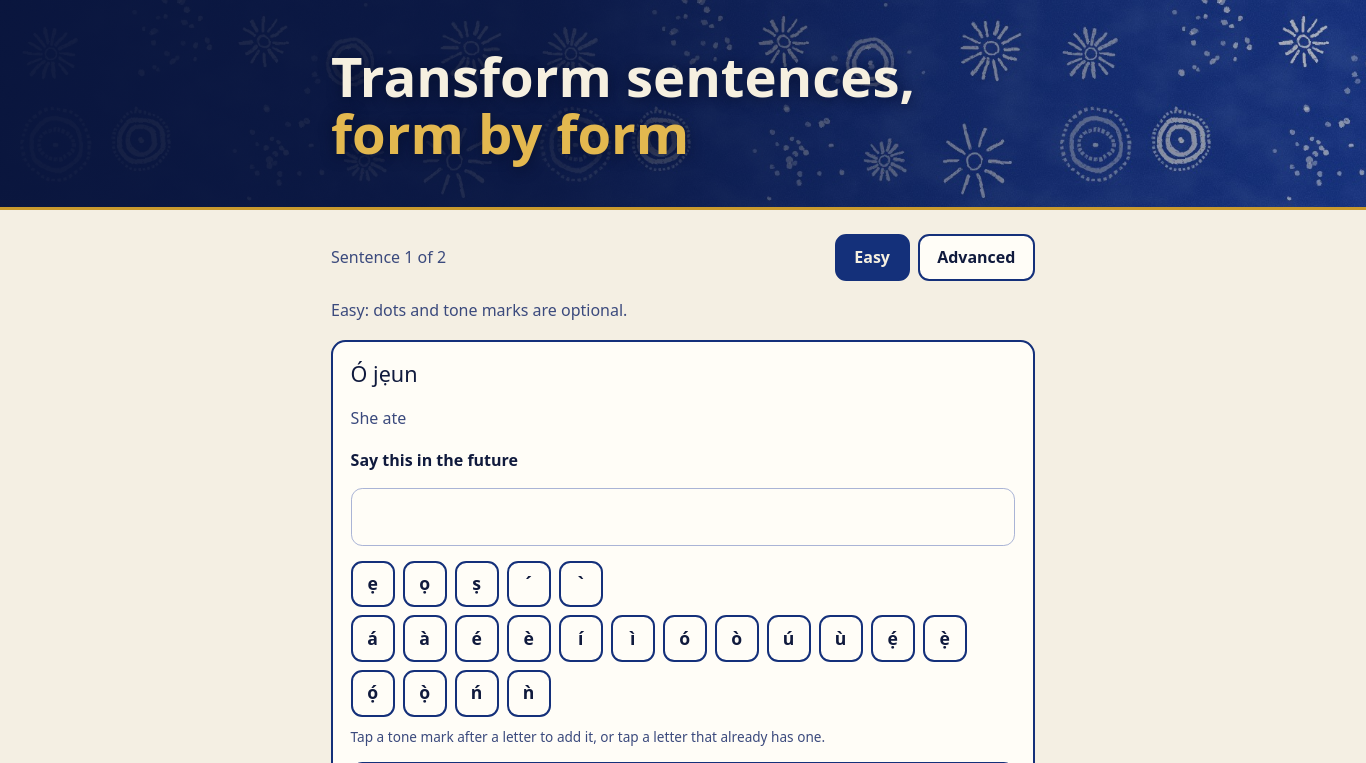
Scenario: Transform page › lists other accepted answers
Type "o jẹun" into the field with test id "transform-input".
click(683, 517); type("o jẹun")  # box [351,488,1015,546]
(page scrolled)
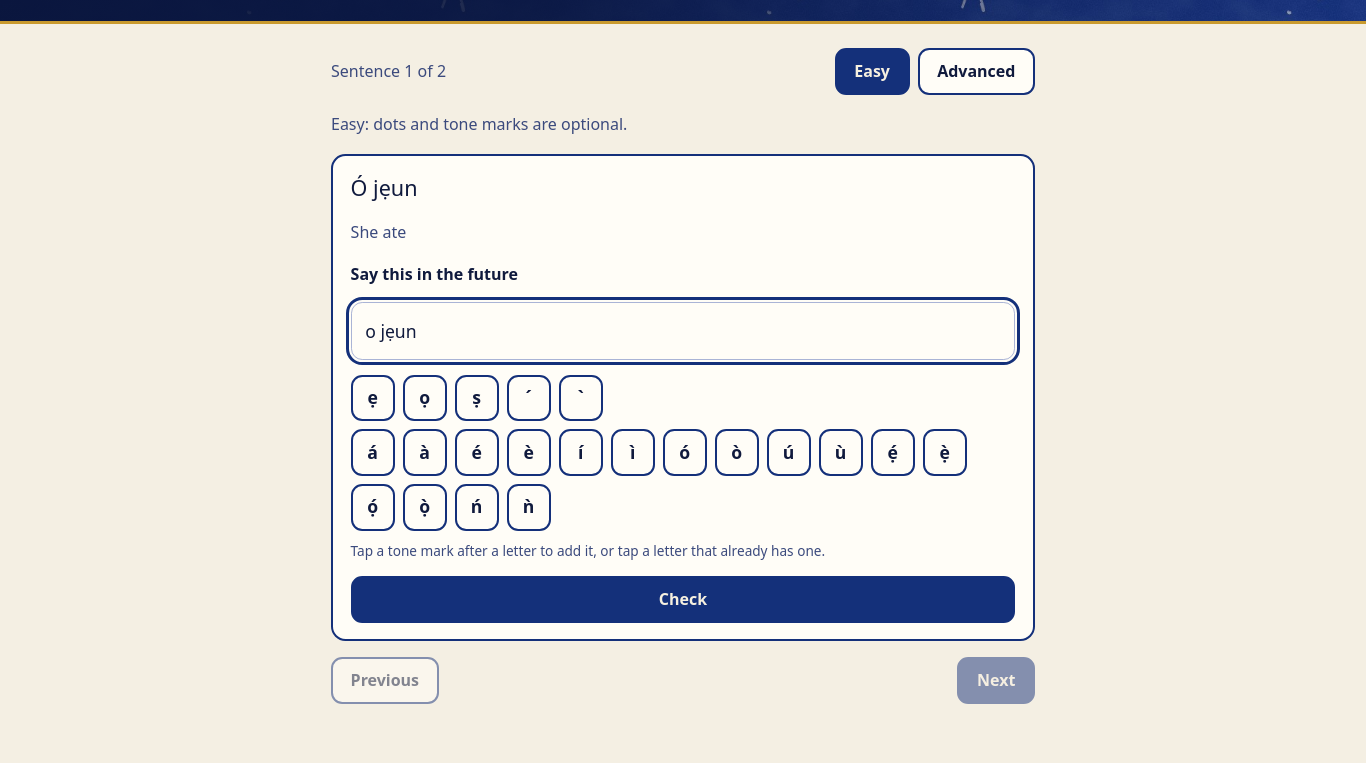
Click the button "Check".
click(683, 600)  # box [351,576,1015,623]
(page scrolled)
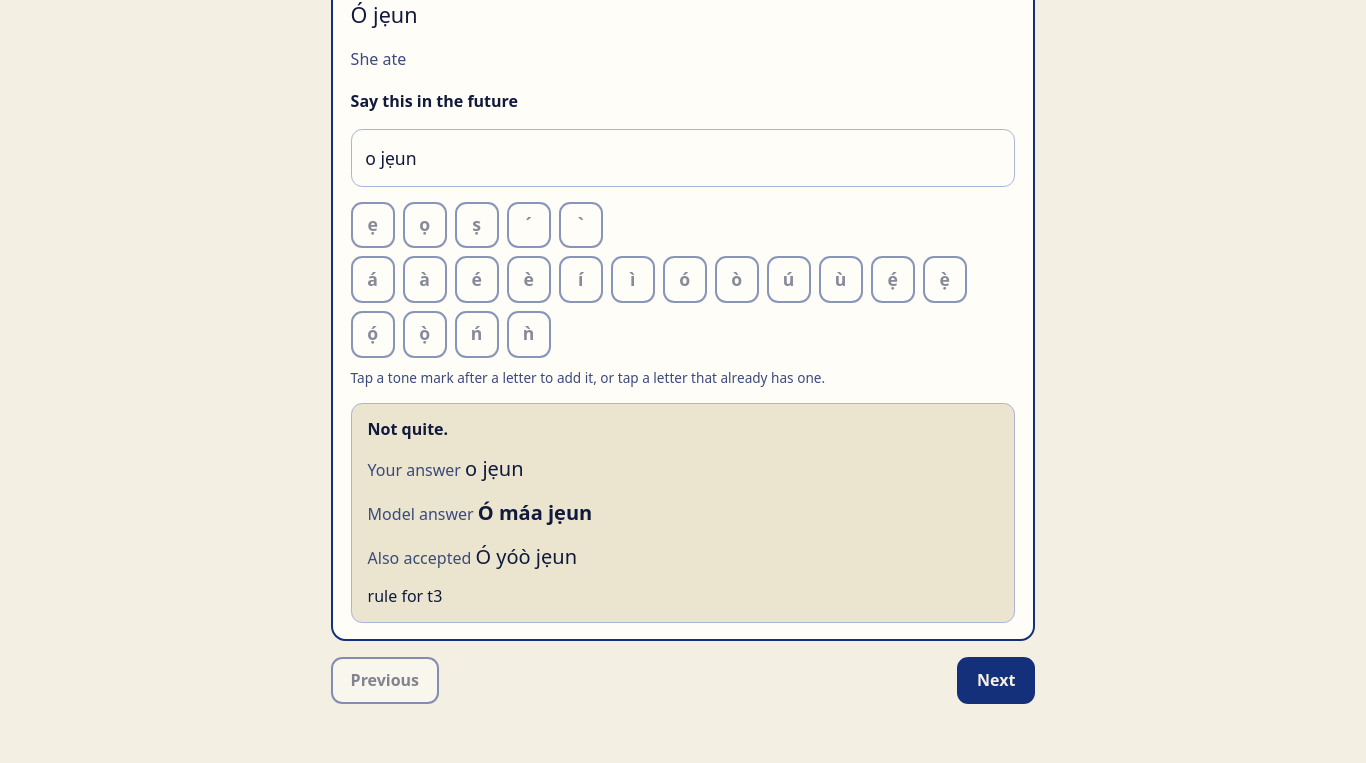
Expected: the element with test id "transform-reveal" shows "Ó yóò jẹun", [476,544,577,570]
